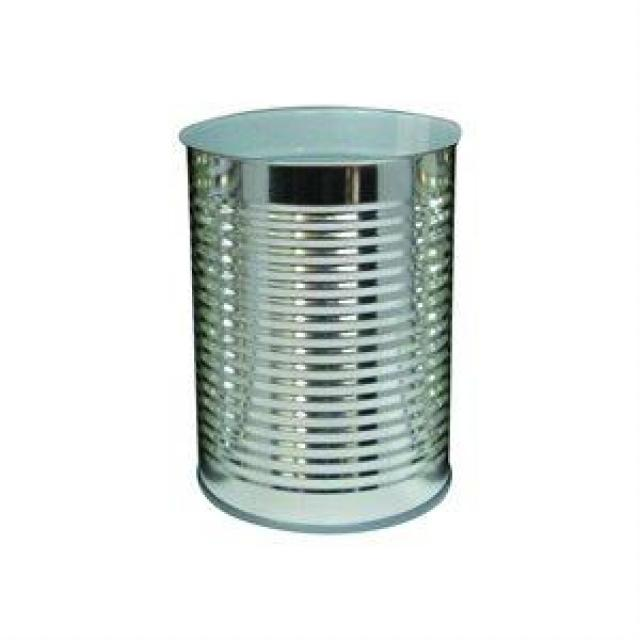metel: (177, 112, 461, 528)
